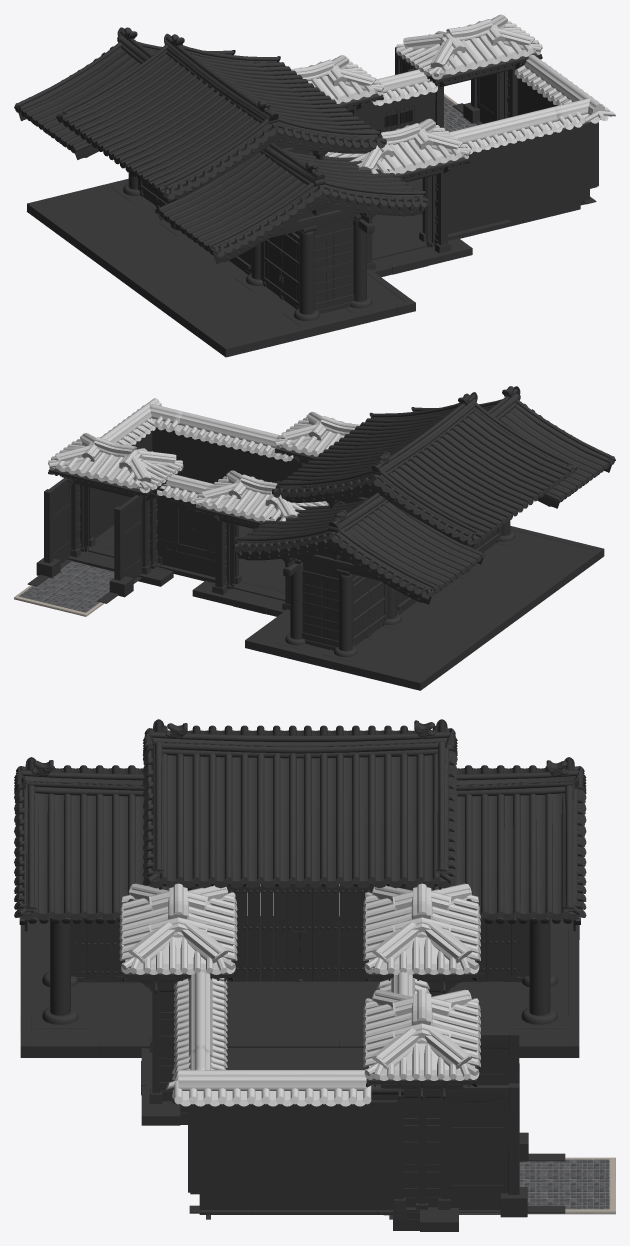
File: SM_CanKao.FBX
3 renders of one model, top to bottom at view 1: azimuth 30°, elevation 25°; view 2: azimuth 150°, elevation 25°; view 3: azimuth 270°, elevation 25°, orthographic. The views are drawn at different scales.
Visible parts, largest first — view 1: SM_CanKao; view 2: SM_CanKao; view 3: SM_CanKao.
Part boxes in pixels (<box>): SM_CanKao: <box>14,14,615,357</box>; SM_CanKao: <box>14,386,615,690</box>; SM_CanKao: <box>14,719,615,1231</box>.
Size of the model in its own units: 2000 by 1597 by 826.
